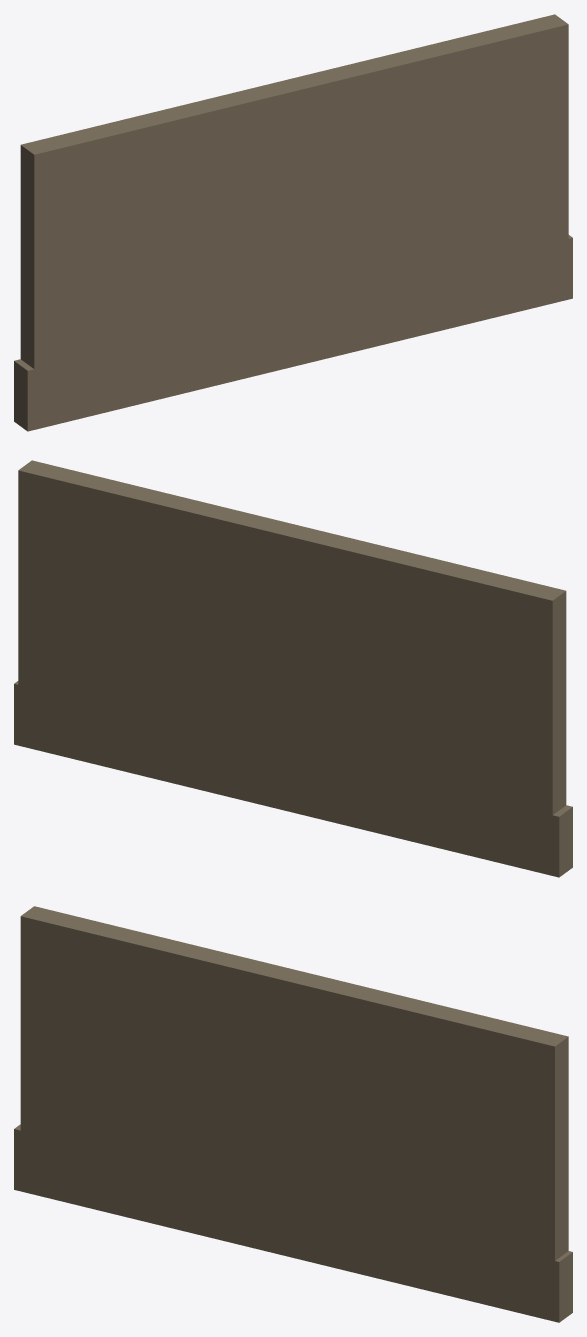
Rendered from wall2.fbx.
The picture shows the model from 3 angles, top to bottom: view 1: azimuth 30°, elevation 25°; view 2: azimuth 150°, elevation 25°; view 3: azimuth 330°, elevation 25°; orthographic projection.
Visible parts, largest first — view 1: wall2; view 2: wall2; view 3: wall2.
Boxes of the visible parts, x1,y1,x2,y2 form: wall2: (14,14,572,431); wall2: (14,460,572,877); wall2: (14,906,572,1322).
Size of the model in its own units: 11.26 by 5.43 by 0.4919.
